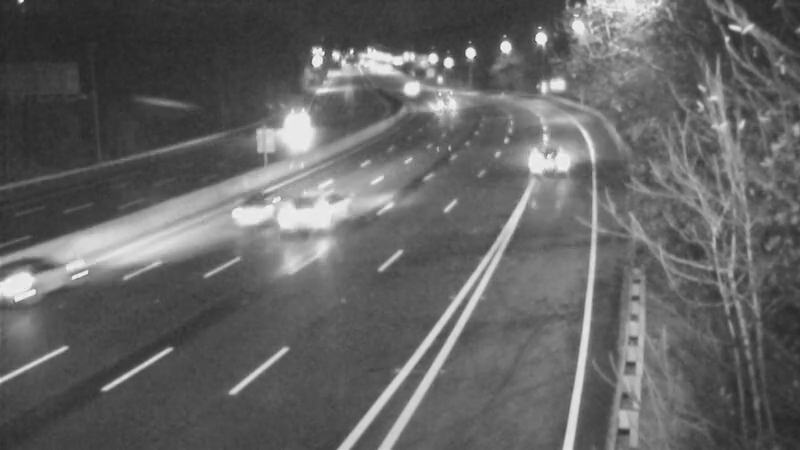vehicle: (509, 112, 589, 192), (271, 172, 351, 252), (213, 172, 293, 252), (1, 242, 77, 322), (386, 63, 436, 113), (416, 76, 466, 126), (268, 101, 318, 151)
